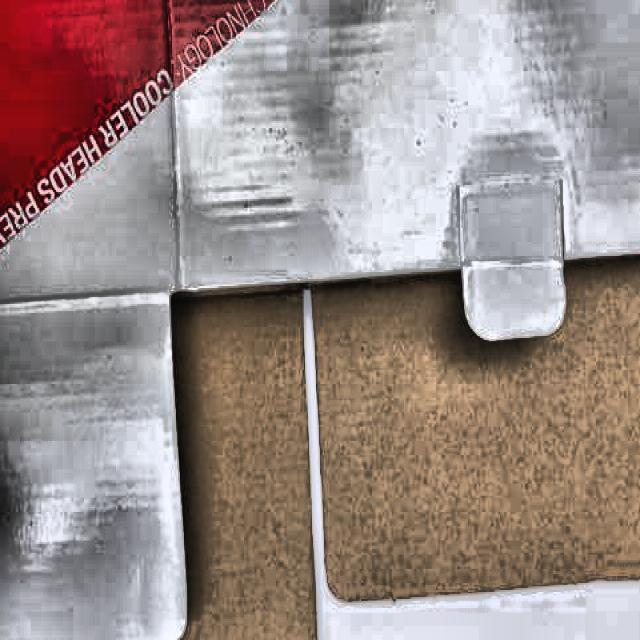cardboard: (308, 252, 640, 608), (0, 288, 322, 640)
